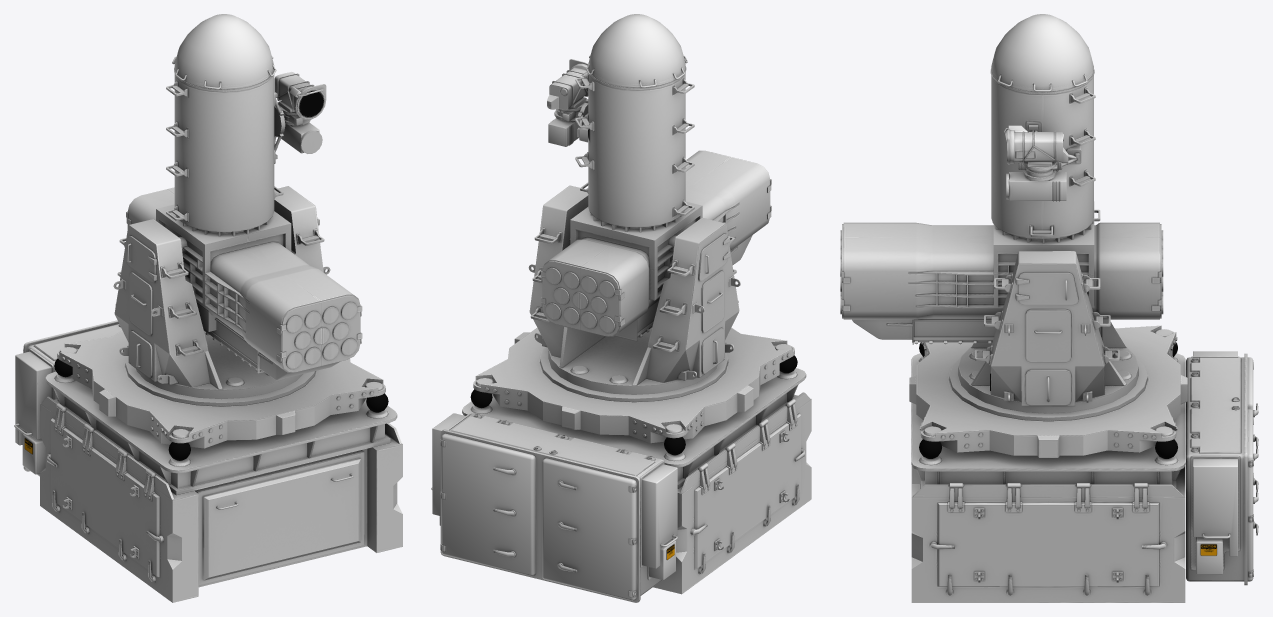
Rendered from searam_ship_defense_system.glb.
3 views of the same model, side by side, from view 1: azimuth 30°, elevation 25°; view 2: azimuth 150°, elevation 25°; view 3: azimuth 270°, elevation 25° (orthographic). The views are drawn at different scales.
Visible parts, largest first — view 1: Stand, Nav-Radar, Rotate_X, Rotate_Z; view 2: Stand, Nav-Radar, Rotate_X, Rotate_Z; view 3: Stand, Rotate_X, Nav-Radar, Rotate_Z.
Part boxes in pixels (x1,y1,x2,y2): Stand: (14,320,402,602); Nav-Radar: (166,14,326,236); Rotate_X: (126,187,362,380); Rotate_Z: (113,186,330,389); Stand: (431,327,811,602); Nav-Radar: (547,14,694,232); Rotate_X: (541,150,771,341); Rotate_Z: (528,185,740,385); Stand: (909,325,1258,602); Rotate_X: (840,201,1163,344); Nav-Radar: (990,14,1095,243); Rotate_Z: (969,209,1131,406).
Bounding box in the file's own units: 2.05 × 4.01 × 2.88.
2 materials, 2 textured.
